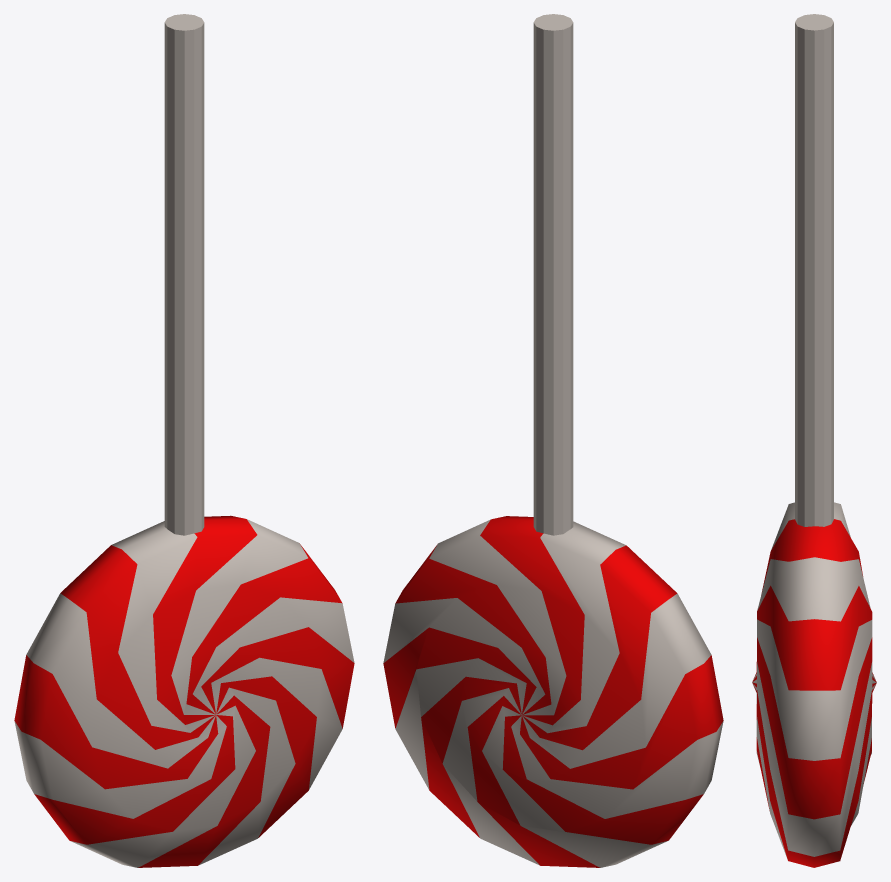
Rendered from lolli.fbx.
3 views of the same model, side by side, from view 1: azimuth 30°, elevation 25°; view 2: azimuth 150°, elevation 25°; view 3: azimuth 270°, elevation 25° (orthographic).
Parts seen in each view (by area): view 1: pSphere21; view 2: pSphere21; view 3: pSphere21.
Part boxes in pixels (<box>): pSphere21: <box>14,14,354,867</box>; pSphere21: <box>383,14,723,867</box>; pSphere21: <box>752,14,876,867</box>.
Size of the model in its own units: 10.01 by 24.65 by 3.37.
